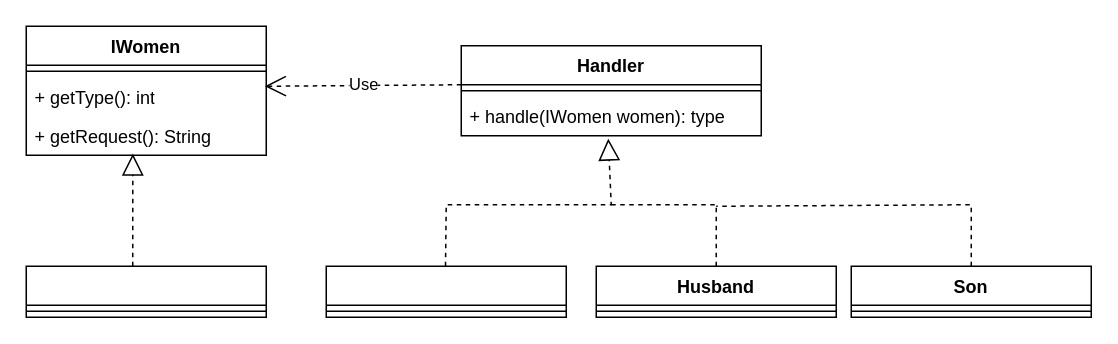
The diagram is 1118 pixels wide and 344 high, and some of its shapes have lost their labels. Here are the shapes that lost their labels. From the top down, the centre of each, then its label:
At point 145,291: "Women".
At point 445,291: "Father".
